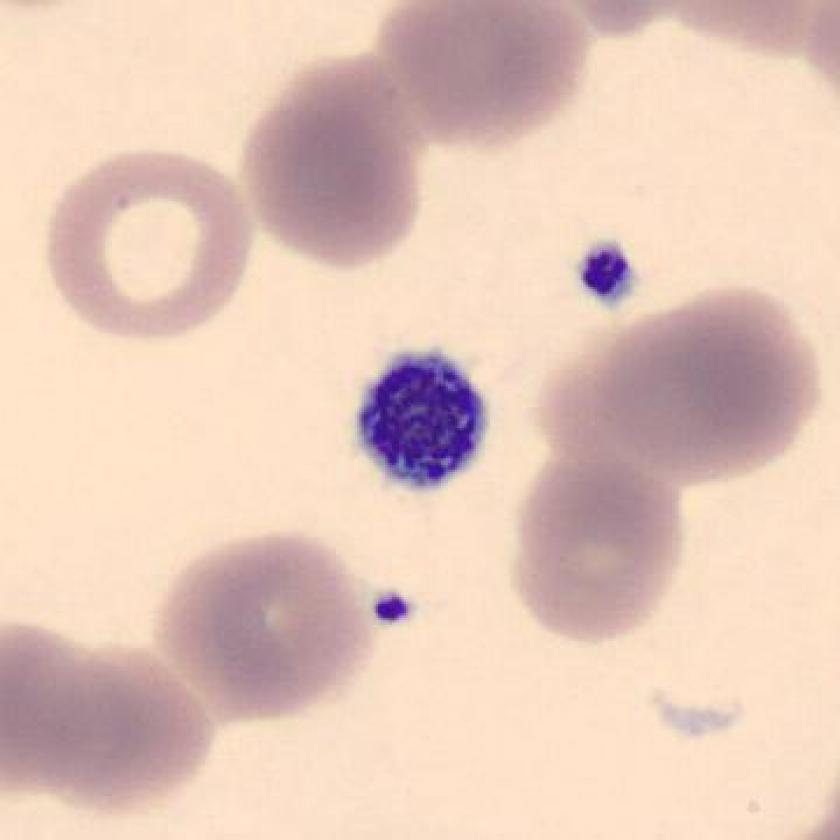platelets: (353, 346, 496, 503), (563, 233, 643, 314), (367, 582, 426, 637)
